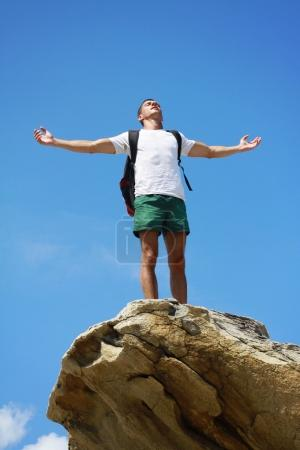handsup: (30, 95, 269, 315)
